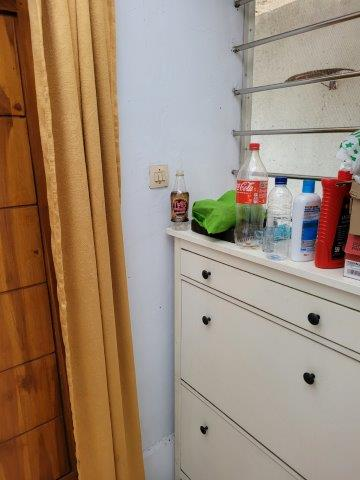botolplastik: (235, 144, 268, 245), (266, 177, 294, 261), (171, 169, 191, 230)
